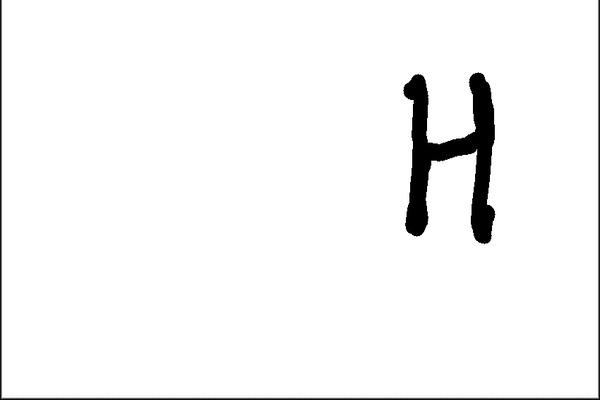H: (395, 63, 498, 249)
